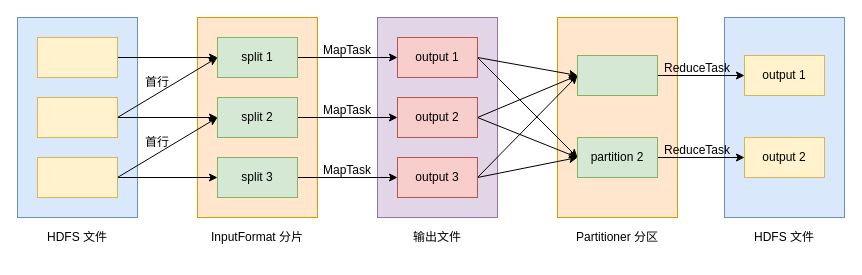
Some shapes in this 862 by 275 pixel diagram are drawn without their labels. The shapes that lost their labels are listed below. From the top down, each one's centre as x and y in pixels, then its label:
At point 77,57: "block 1".
At point 617,75: "partition 1".
At point 77,117: "block 2".
At point 77,177: "block 3".
